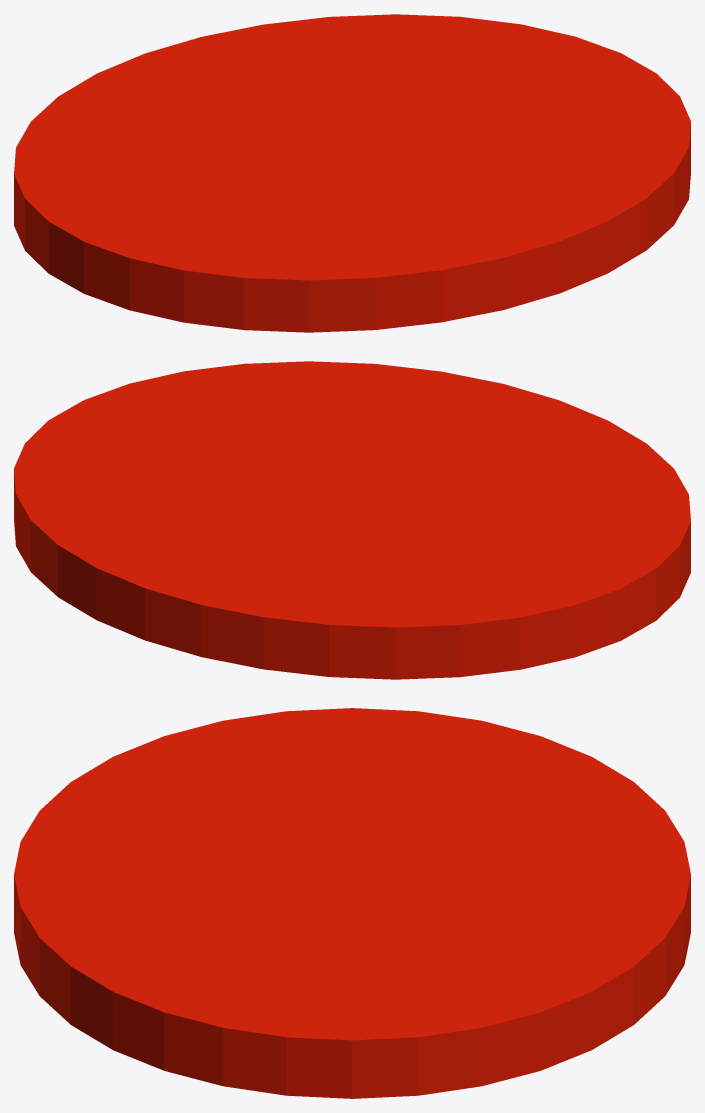
File: net_2.fbx
The picture shows the model from 3 angles, top to bottom: view 1: azimuth 30°, elevation 25°; view 2: azimuth 150°, elevation 25°; view 3: azimuth 270°, elevation 25°; orthographic projection. The views are drawn at different scales.
Visible parts, largest first — view 1: Raqueta.001; view 2: Raqueta.001; view 3: Raqueta.001.
Part boxes in pixels (x1=…): Raqueta.001: x1=14, y1=14, x2=690, y2=332; Raqueta.001: x1=14, y1=361, x2=690, y2=679; Raqueta.001: x1=14, y1=708, x2=690, y2=1098.
Size of the model in its own units: 172 by 16.41 by 200.
